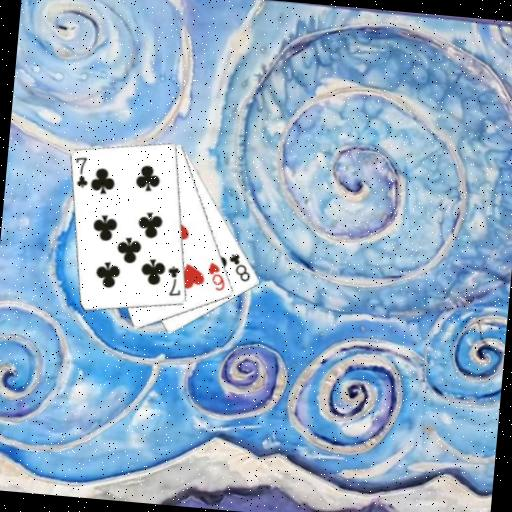6H: (204, 259, 229, 293)
7C: (71, 153, 92, 190), (164, 263, 185, 299)
8C: (225, 250, 255, 284)
